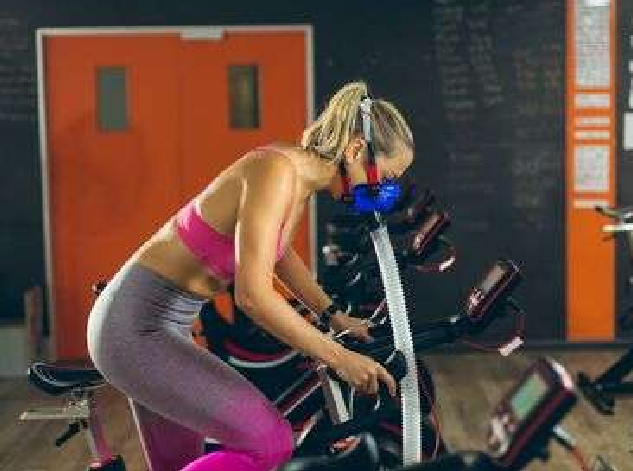with_mask: (303, 98, 414, 223)
